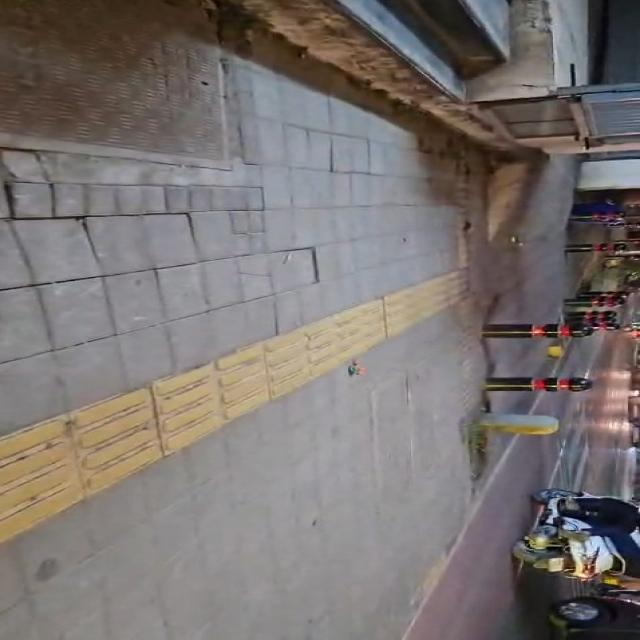obstacle: (480, 413, 558, 435), (483, 323, 594, 338), (485, 378, 591, 392), (566, 241, 637, 252), (564, 311, 617, 323), (570, 212, 625, 223), (564, 297, 623, 307), (575, 293, 627, 304), (576, 291, 629, 300), (592, 321, 619, 331)
vehicle: (513, 489, 626, 579)
